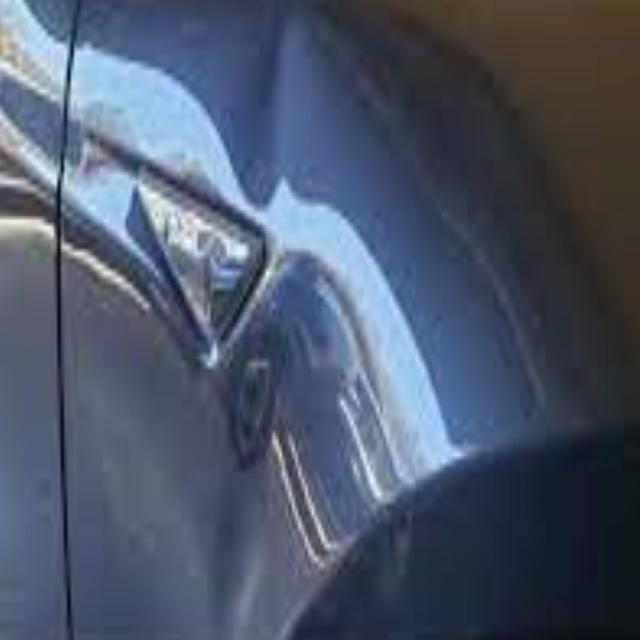dents: (237, 1, 295, 210), (236, 352, 288, 488)
